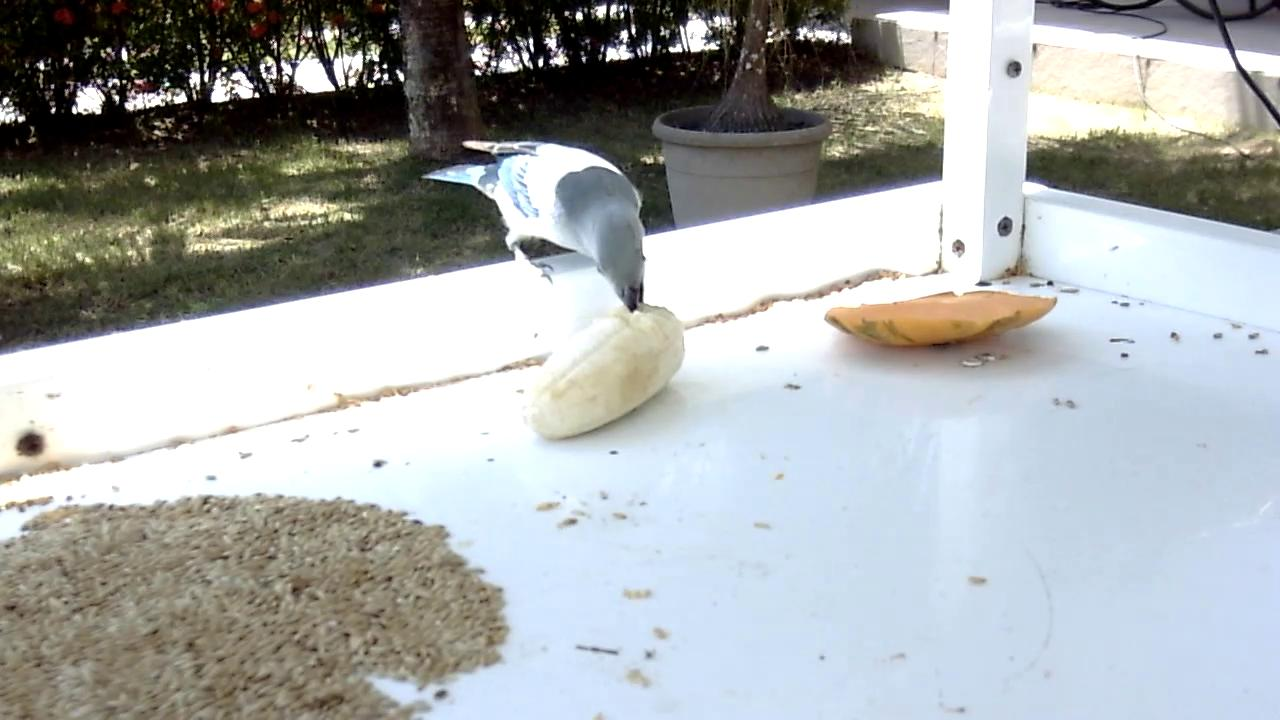sanhaco_da_amazonia: (423, 134, 649, 315)
